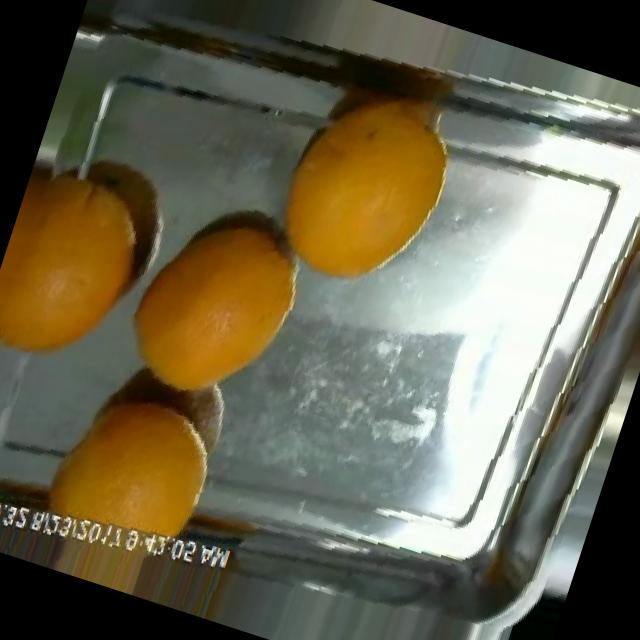Fruit: (241, 66, 483, 328), (106, 165, 338, 424), (20, 342, 256, 570), (479, 566, 571, 640)
